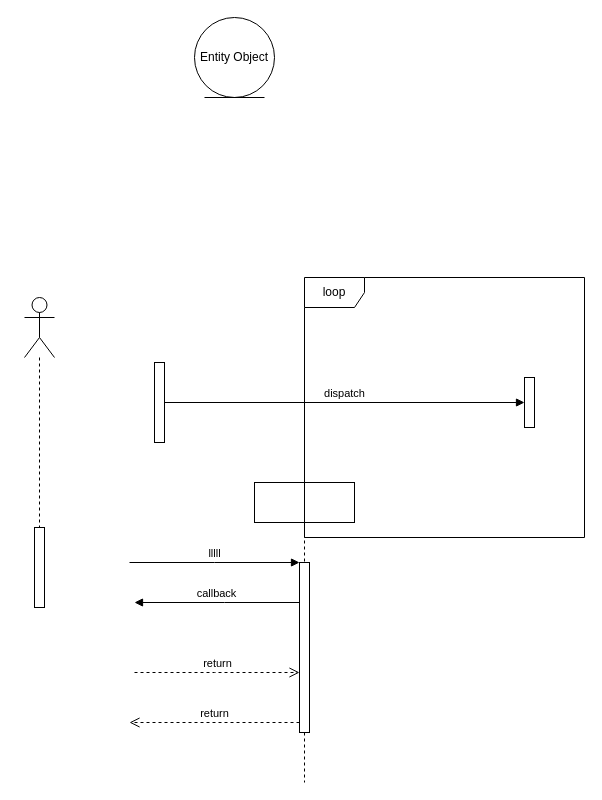
Some shapes in this 602 by 800 pixel diagram are drawn without their labels. The shapes that lost their labels are listed below. From the top down, each one's box as (x1, y1, x2, y2) in pixels, then its label:
(24, 296, 54, 358): :Usuario
(254, 482, 354, 782): :Object
